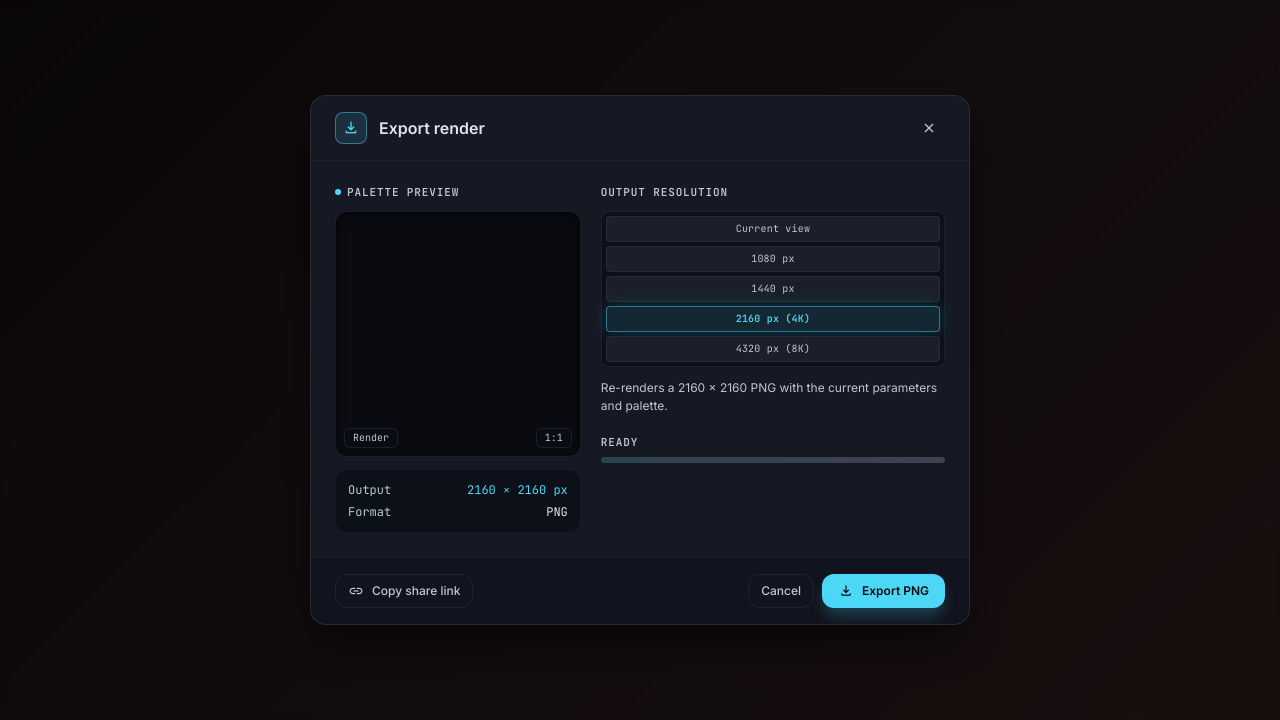
ExportModal › copies the share link from the footer
What coordinates should you click on to do the following:
click the button "Copy share link"
I would click on:
 (404, 591)
Its box is [335,574,474,608].
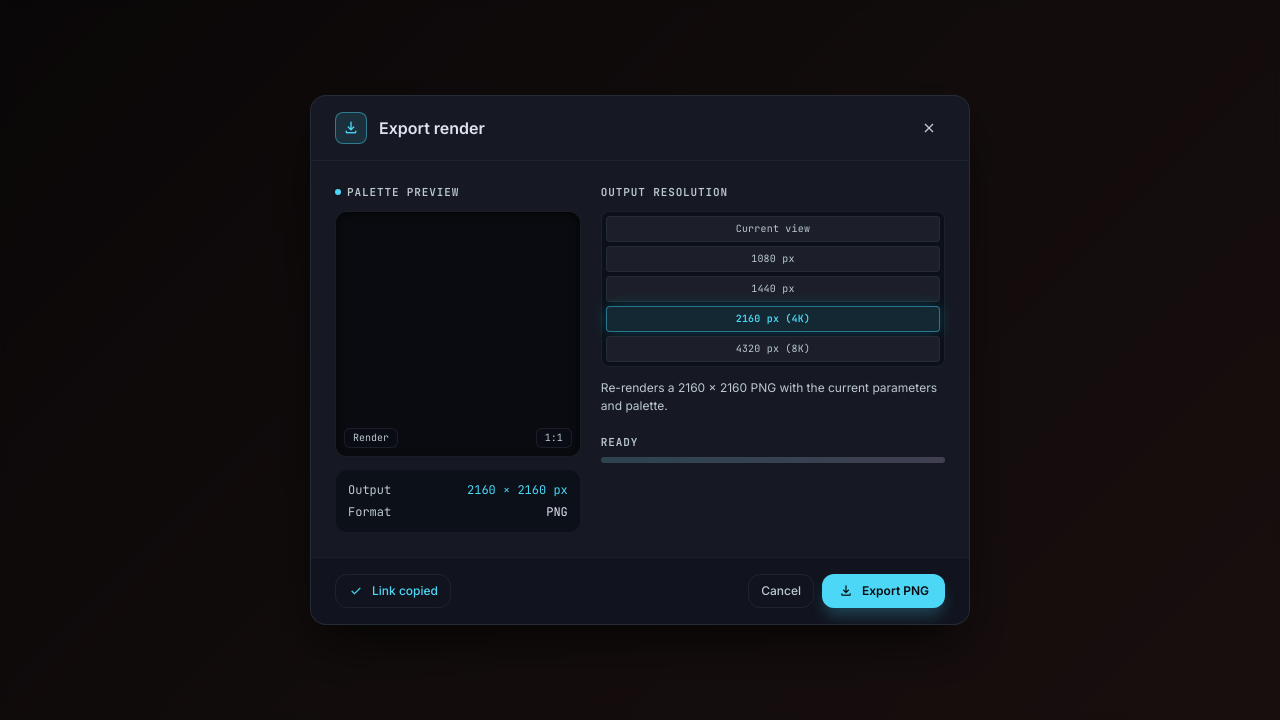
expect the text "Link copied" is shown: met, box [372,583,438,599]
